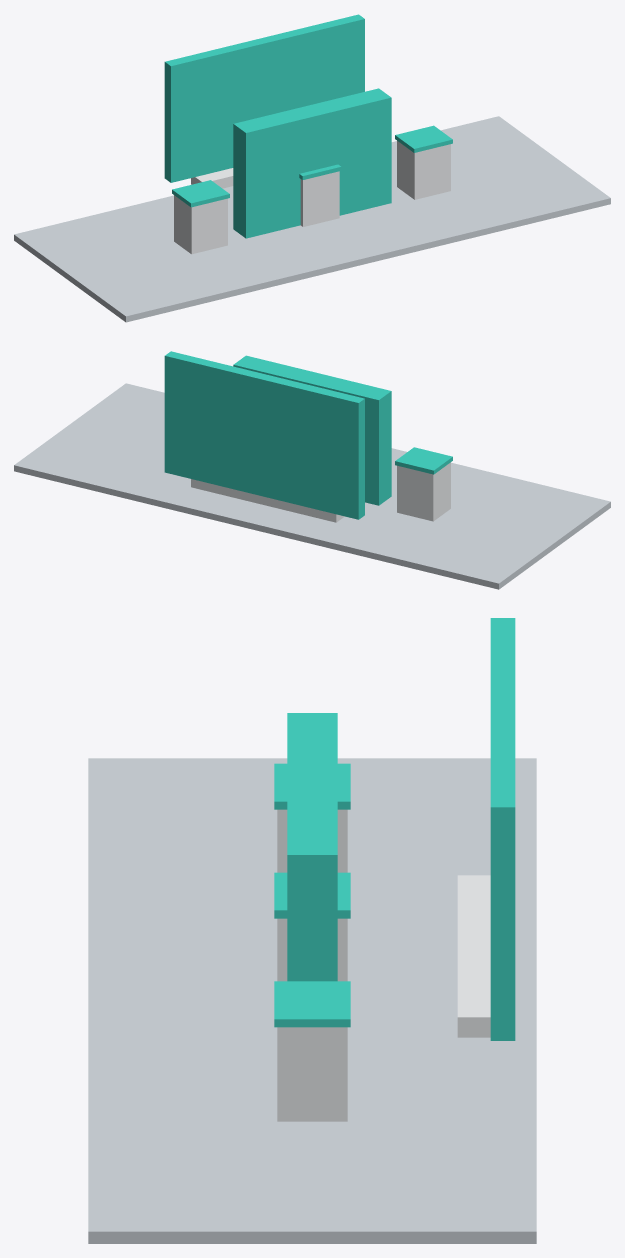
3 renders of one model, top to bottom at view 1: azimuth 30°, elevation 25°; view 2: azimuth 150°, elevation 25°; view 3: azimuth 270°, elevation 25°, orthographic. The views are drawn at different scales.
Parts seen in each view (by area): view 1: Exhibition Booth Concept; view 2: Exhibition Booth Concept; view 3: Exhibition Booth Concept.
Part boxes in pixels (x1,y1,x2,y2): Exhibition Booth Concept: (14,14,610,322); Exhibition Booth Concept: (14,351,610,589); Exhibition Booth Concept: (88,618,536,1243).
Bounding box in the file's own units: 10 × 2.9 × 4.
